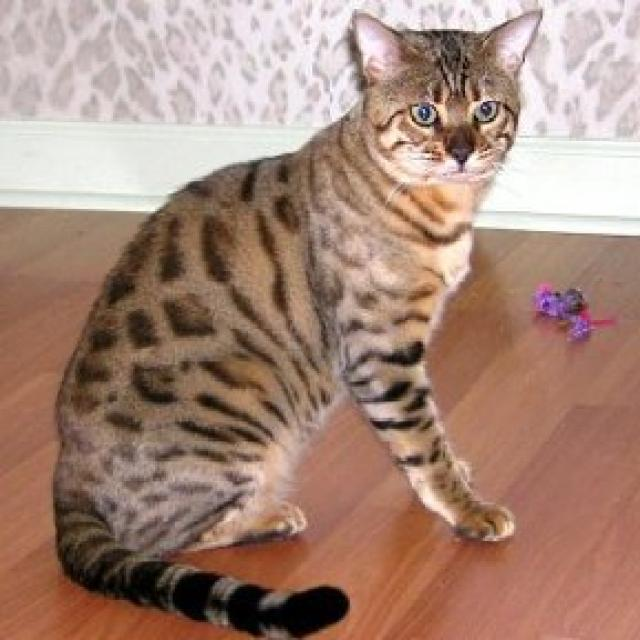Bengal: (348, 11, 533, 185)
